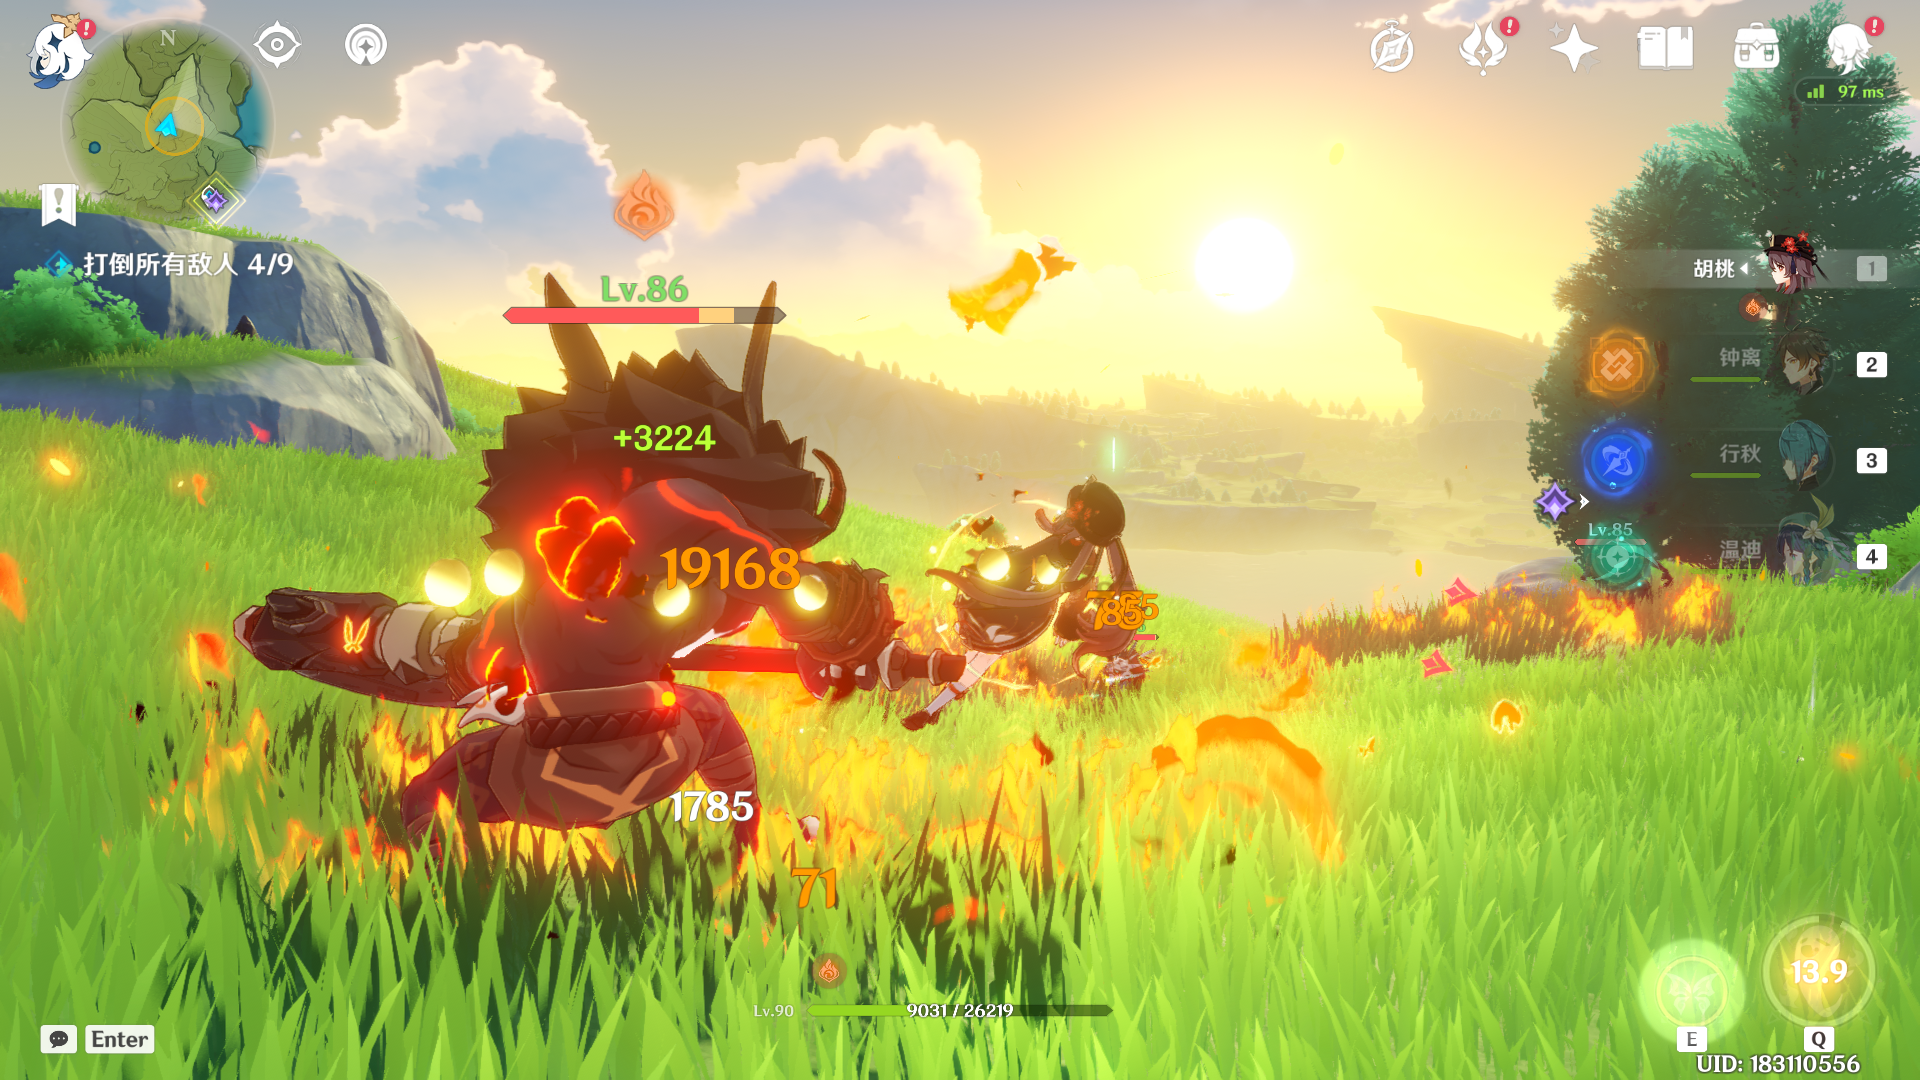bighili: (237, 227, 866, 956)
character: (868, 469, 1174, 798)
